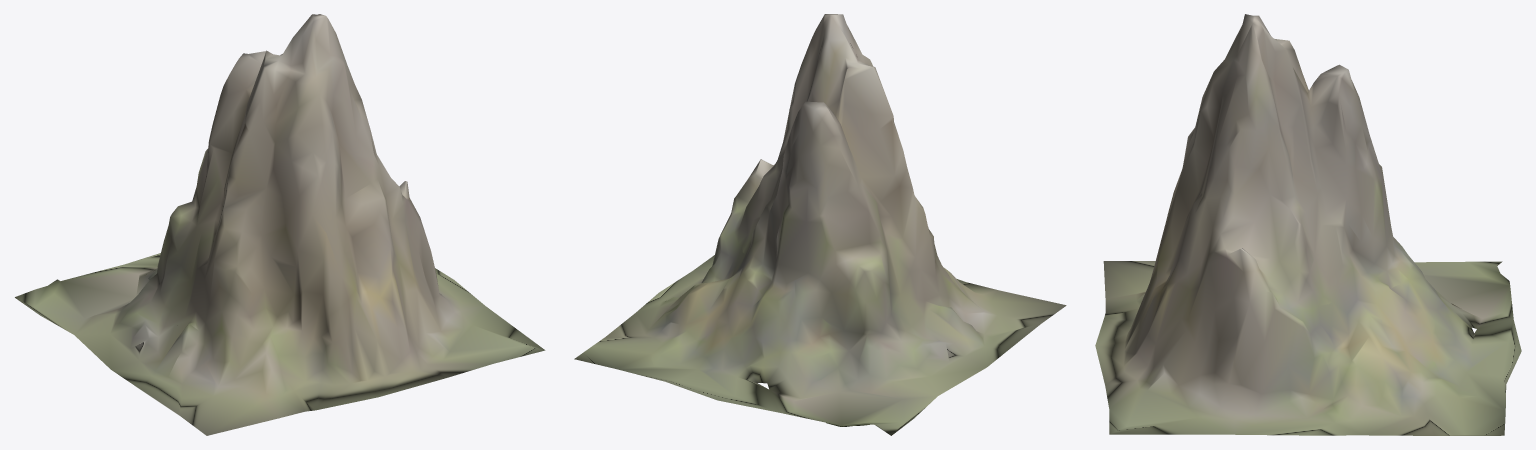
The model's file is mountain_rock_near.glb.
3 views of the same model, side by side, from view 1: azimuth 30°, elevation 25°; view 2: azimuth 150°, elevation 25°; view 3: azimuth 270°, elevation 25° (orthographic). The views are drawn at different scales.
Visible parts, largest first — view 1: mountain_rock; view 2: mountain_rock; view 3: mountain_rock.
Part boxes in pixels (<box>): mountain_rock: <box>15,14,545,435</box>; mountain_rock: <box>574,14,1066,435</box>; mountain_rock: <box>1095,14,1521,435</box>.
Bounding box in the file's own units: 1.11 × 1 × 1.12.
